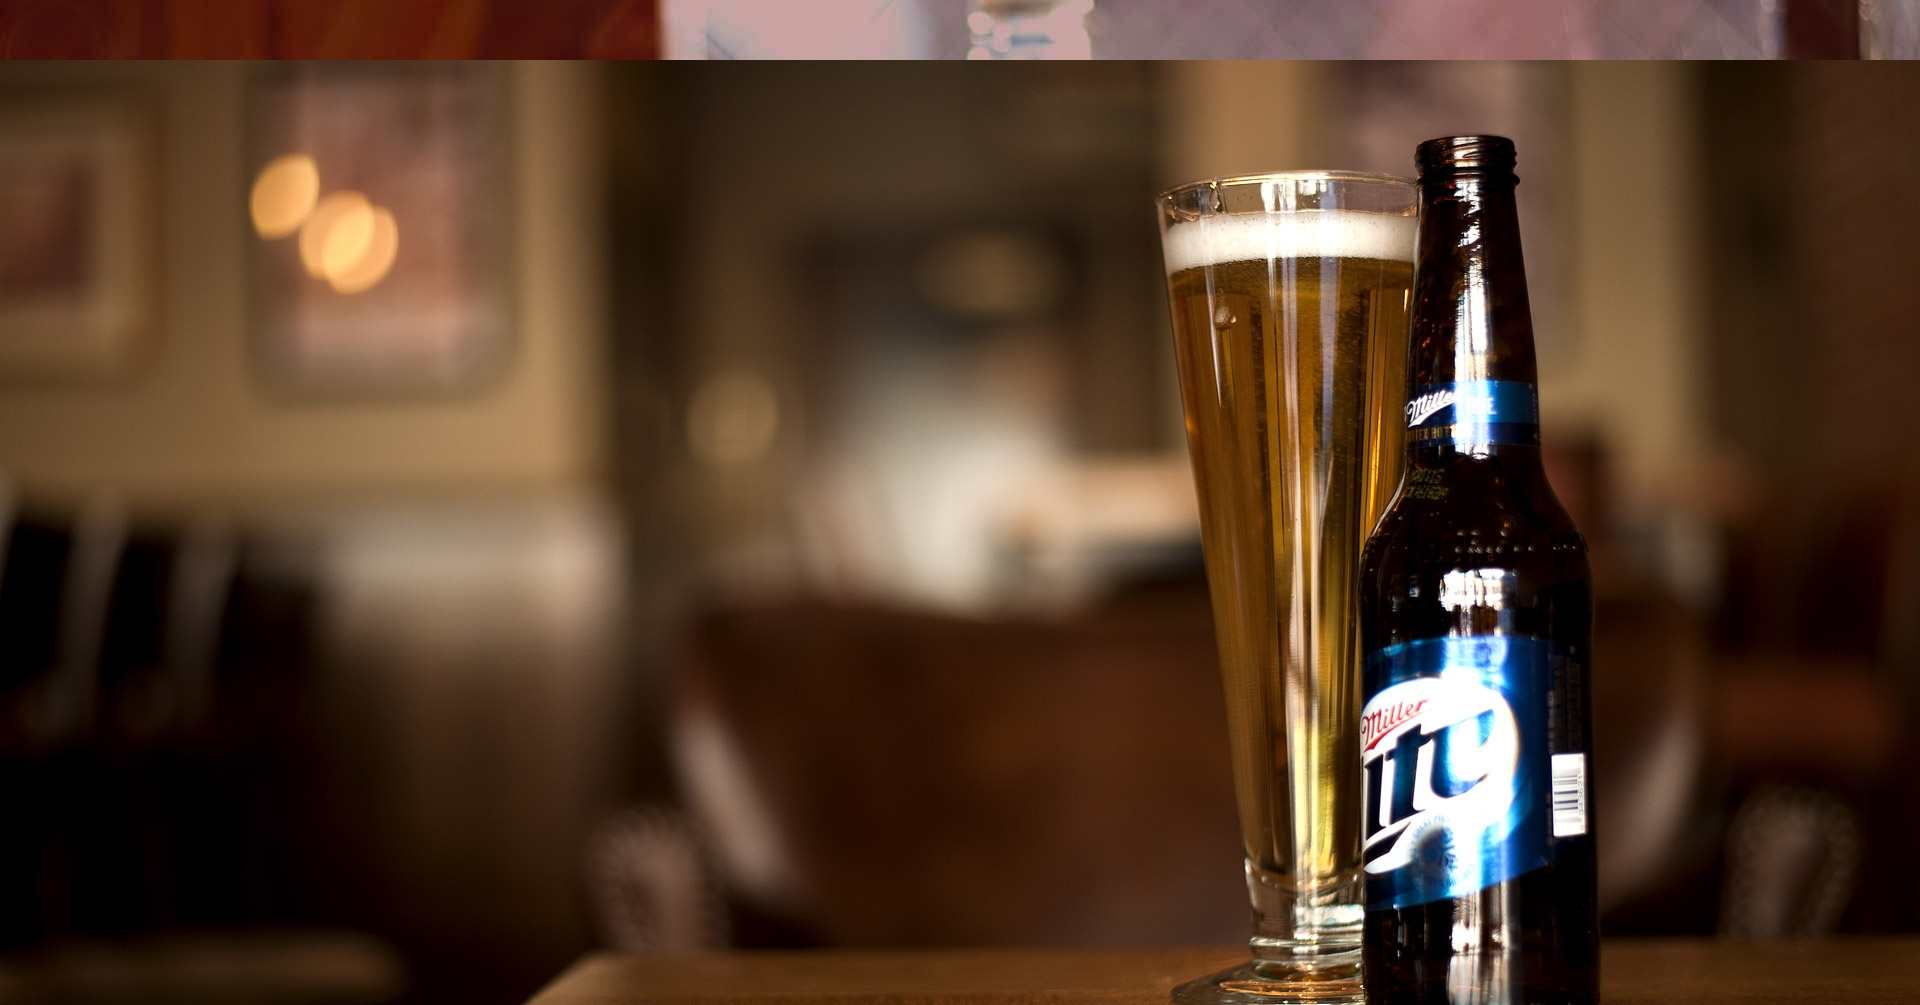beerBottle: (1359, 146, 1597, 1005)
